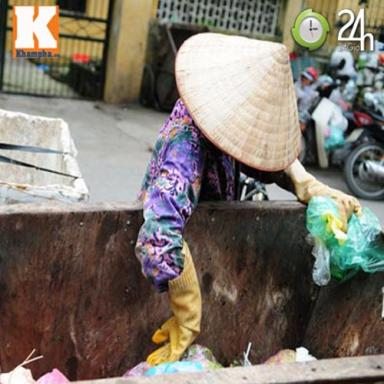plasticbag: (297, 193, 383, 290)
